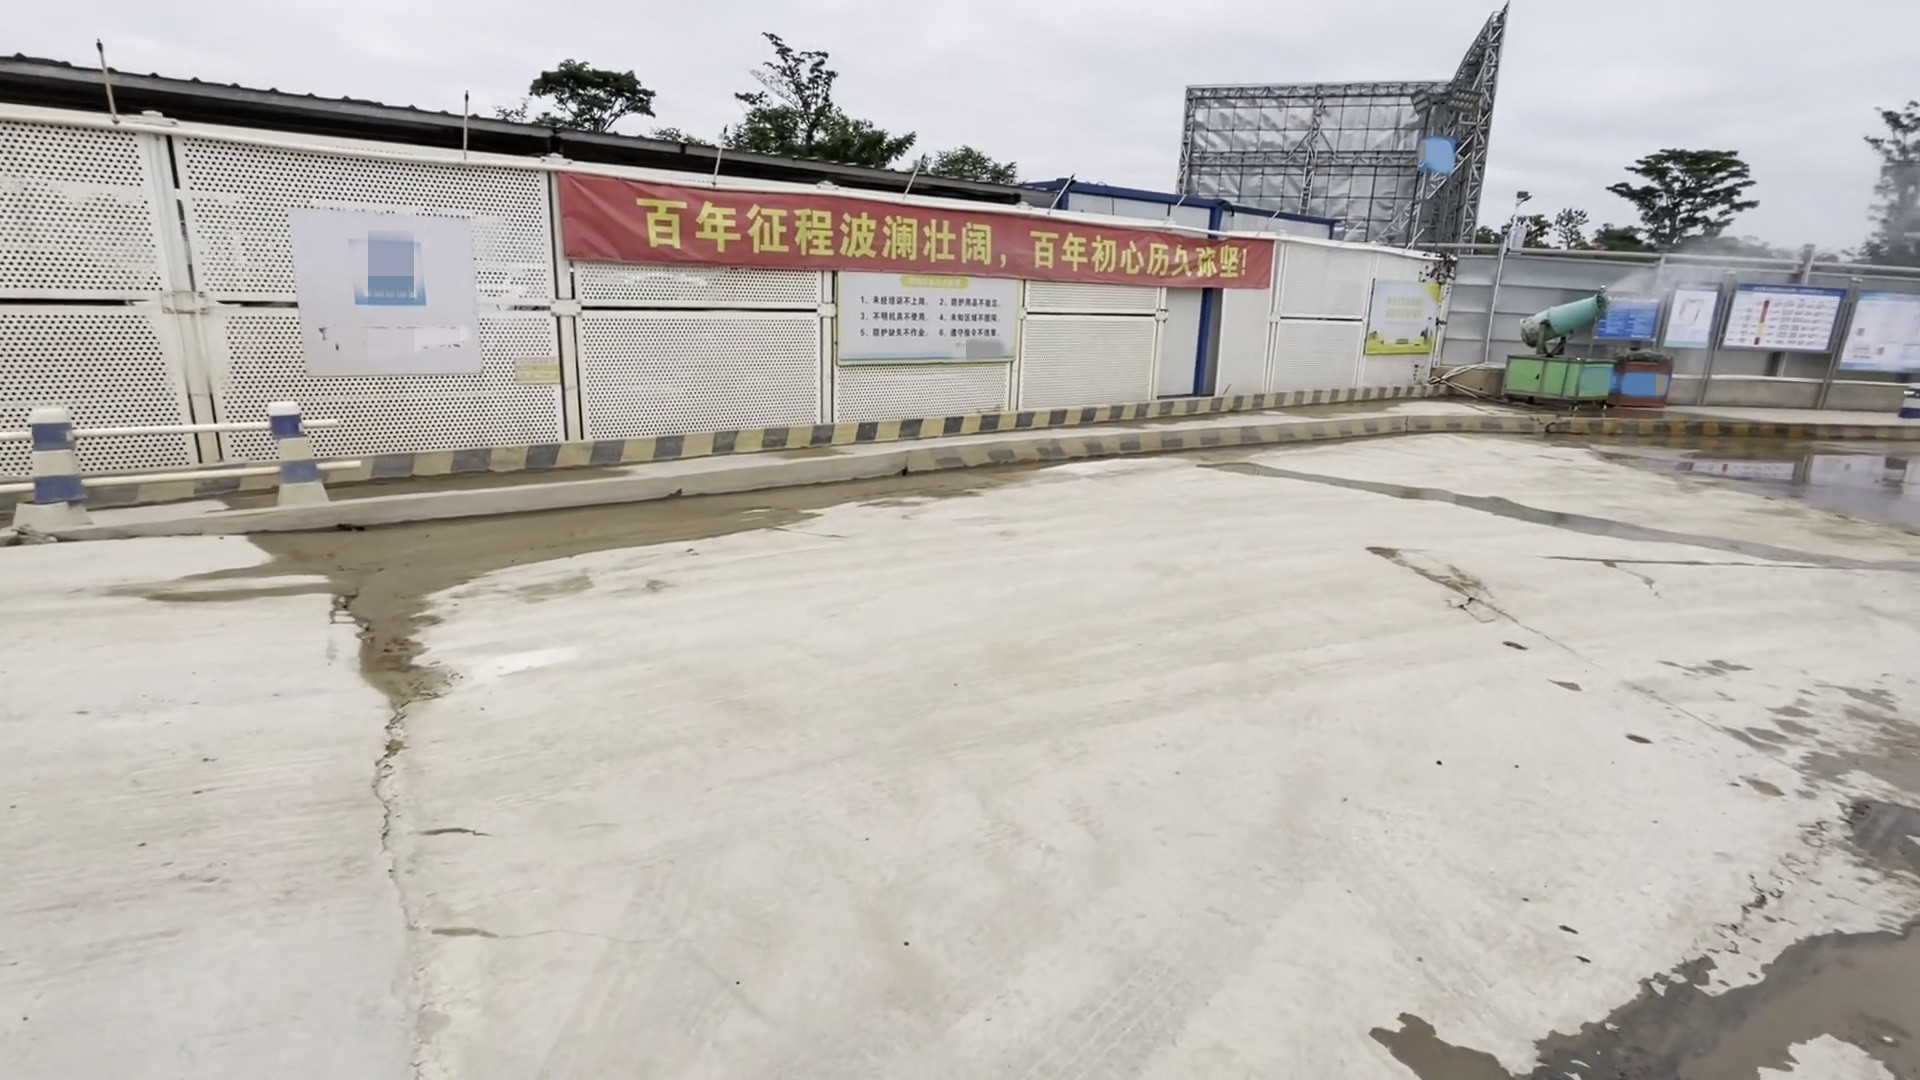slogan: (554, 175, 1271, 291), (832, 266, 1017, 372)
